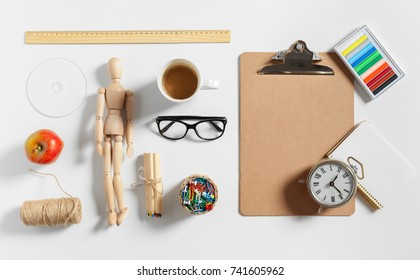not a gesture sign: (240, 76, 336, 171), (28, 30, 229, 43), (23, 129, 63, 163)
